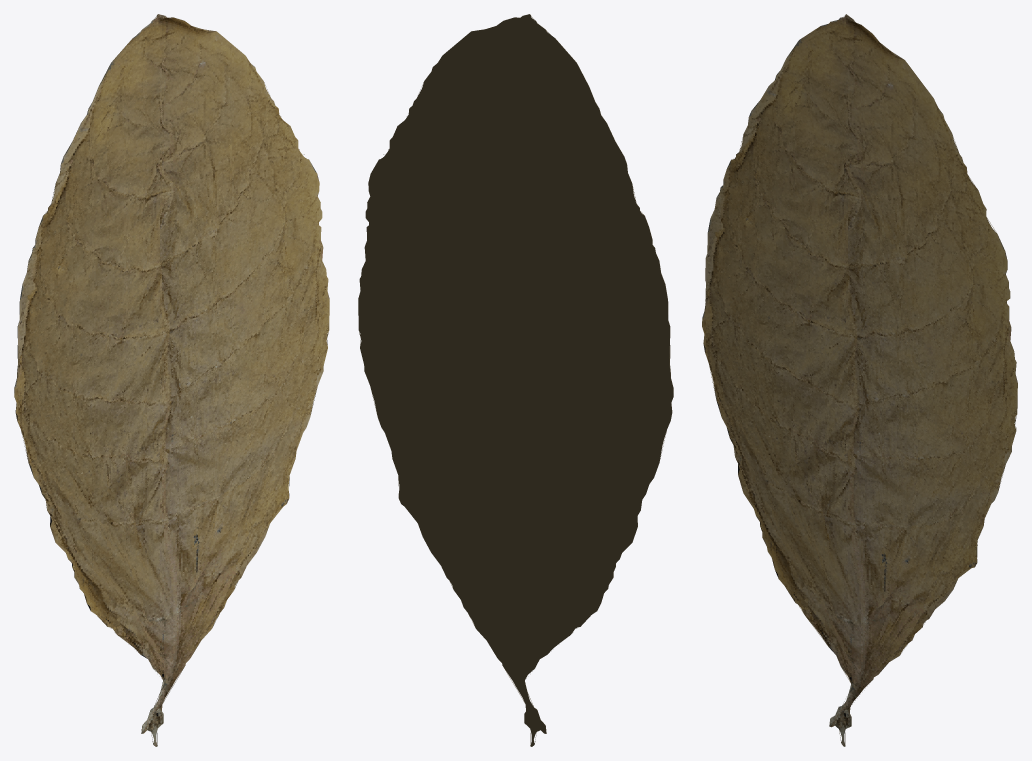
Rendered from 20260911_152109562_iOS.obj.
3 renders of one model, left to right at view 1: azimuth 30°, elevation 25°; view 2: azimuth 150°, elevation 25°; view 3: azimuth 330°, elevation 25°, orthographic.
Visible parts, largest first — view 1: 20260911_152109562_iOS; view 2: 20260911_152109562_iOS; view 3: 20260911_152109562_iOS.
Boxes of the visible parts, <box> form: 20260911_152109562_iOS: <box>14,14,329,746</box>; 20260911_152109562_iOS: <box>358,14,673,746</box>; 20260911_152109562_iOS: <box>702,14,1017,746</box>.
Bounding box in the file's own units: 250 × 555 × 0.3.
